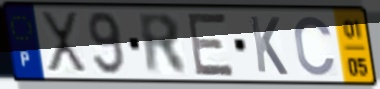9: (86, 10, 128, 78)
C: (292, 14, 338, 79)
E: (186, 11, 237, 79)
K: (247, 13, 291, 78)
R: (135, 11, 191, 78)
X: (38, 9, 90, 77)
